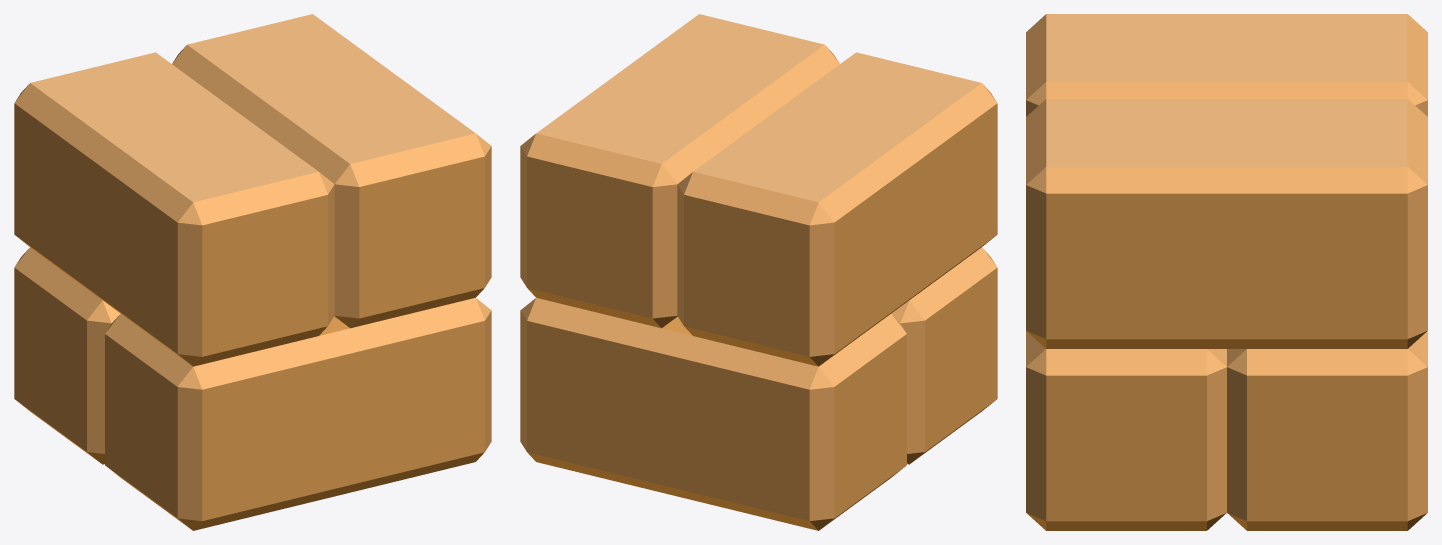
Rendered from m_kub_clay_brickPile.FBX.
3 views of the same model, side by side, from view 1: azimuth 30°, elevation 25°; view 2: azimuth 150°, elevation 25°; view 3: azimuth 270°, elevation 25° (orthographic). The views are drawn at different scales.
Parts seen in each view (by area): view 1: m_kub_clay_brickPile; view 2: m_kub_clay_brickPile; view 3: m_kub_clay_brickPile.
Part boxes in pixels (x1,y1,x2,y2): m_kub_clay_brickPile: [14, 14, 491, 530]; m_kub_clay_brickPile: [520, 14, 997, 530]; m_kub_clay_brickPile: [1026, 14, 1427, 530].
Bounding box in the file's own units: 2 × 2 × 2.
